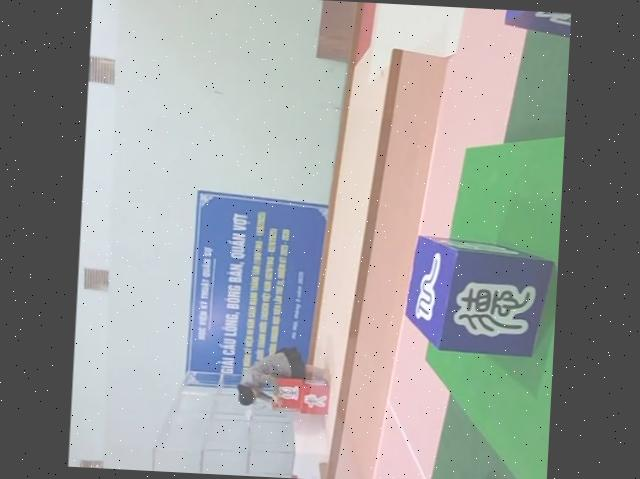R2 Fake Blue: (404, 234, 555, 356)
R2 Real Blue: (504, 10, 571, 36)
